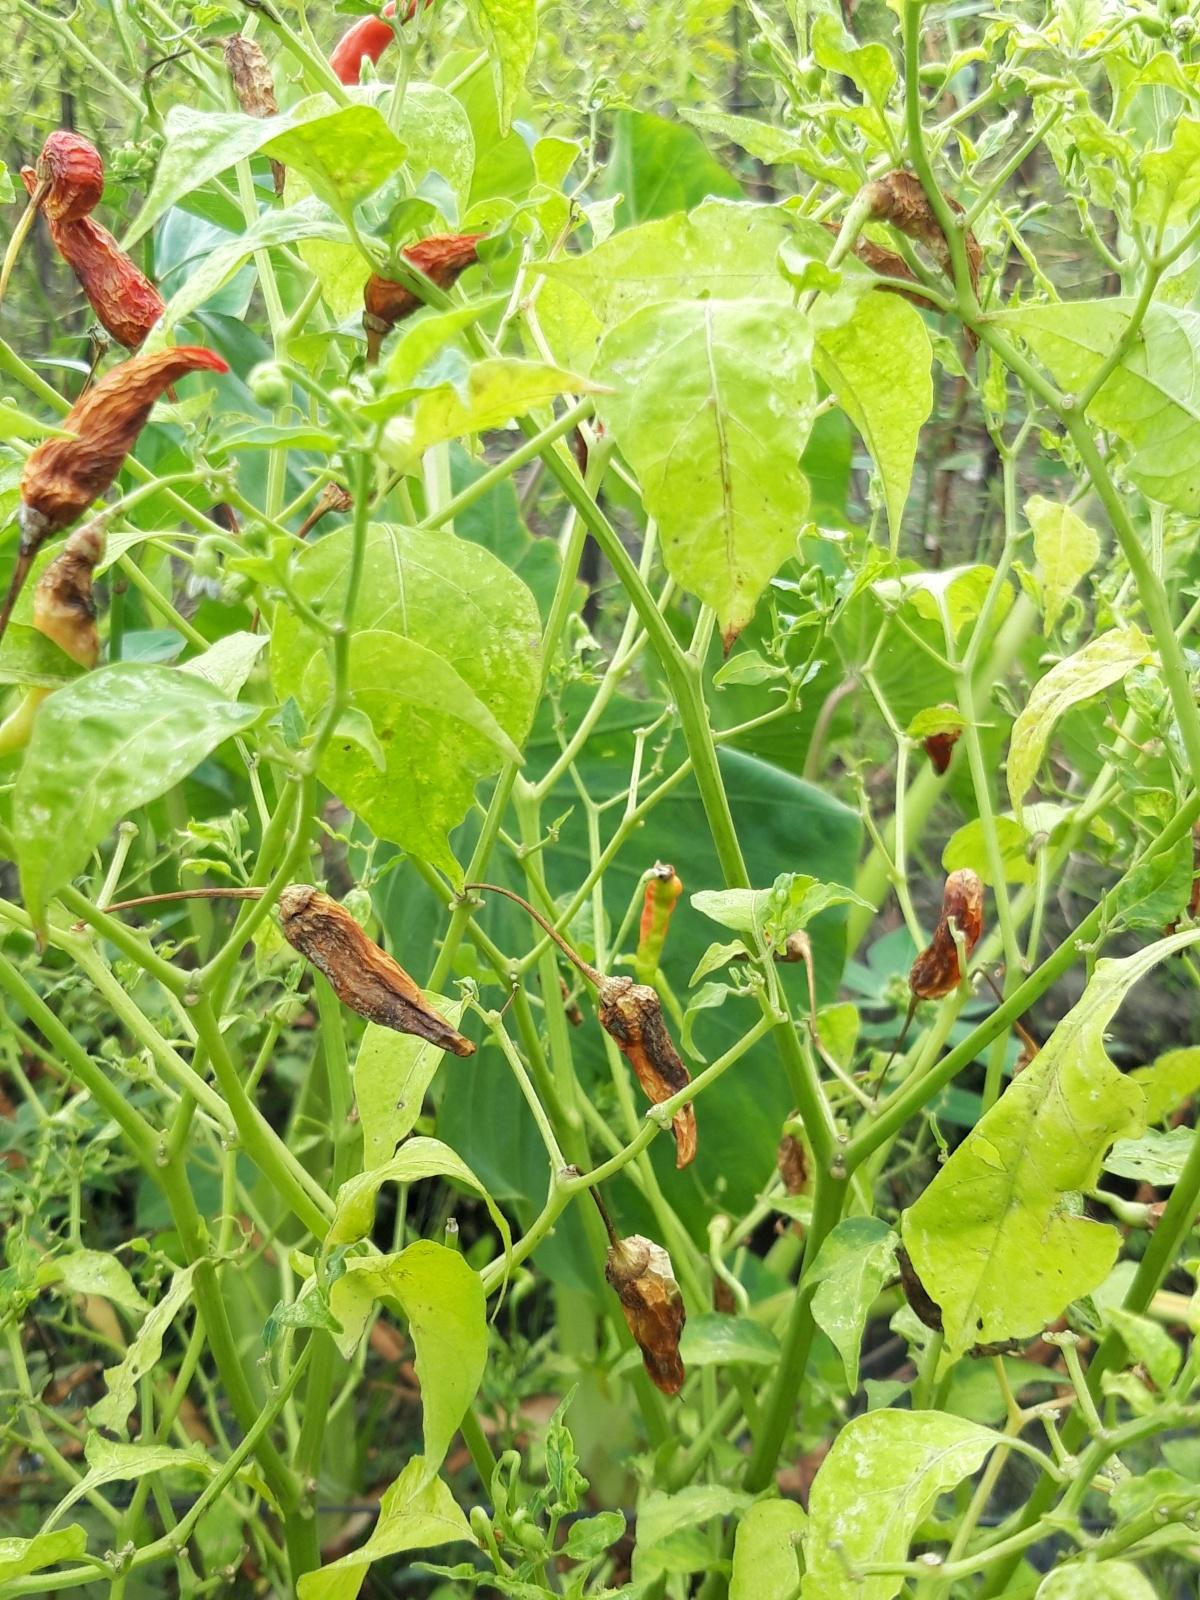antraknosa: (20, 345, 229, 540), (277, 885, 477, 1058), (16, 163, 168, 356), (1, 525, 105, 753), (864, 169, 982, 351), (598, 975, 697, 1170), (604, 1234, 686, 1395), (362, 233, 490, 335), (908, 868, 983, 1001), (36, 131, 106, 223)
